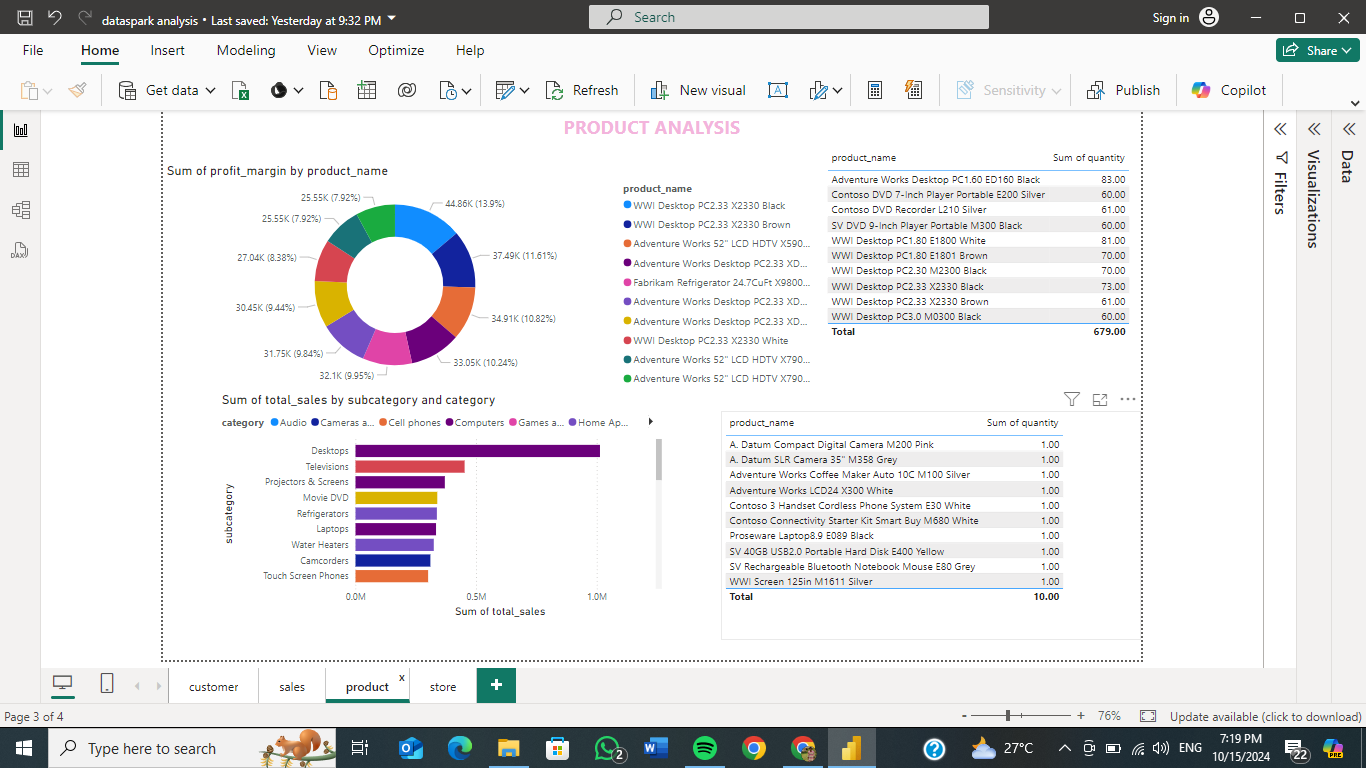

The dashboard page shown, as its layout file describes it:
{"tool":"powerbi","page":{"name":"product ","canvas":[1280,720],"ordinal":2},"visuals":[{"type":"textbox","box":[507.9,0,264.3,59.2],"z":0},{"type":"donutChart","fields":{"Category":["Query10.product_name"],"Y":["Query10.profit_margin"]},"box":[0,68.8,864.3,300],"z":1000},{"type":"barChart","fields":{"Y":["Query8.total_sales"],"Category":["Query8.subcategory"],"Series":["Query8.category"]},"box":[0,369.2,586.5,299.8],"z":2000},{"type":"tableEx","fields":{"Values":["Query9.product_name","Query9.quantity"]},"box":[589.1,379.6,549.8,299.8],"z":3000},{"type":"tableEx","fields":{"Values":["Query14.product_name","Query14.quantity"]},"box":[864.3,46.8,415.7,300],"z":4000}]}

Visuals, with their boxes on the page's 1280x720 design canvas (x1, y1, x2, y2). These are canvas units, not pixel positions in the 1366x768 screenshot, which may show the page scaled, cropped or inside an application window:
textbox: [x1=508, y1=0, x2=772, y2=59]
donutChart - Query10.product_name x Query10.profit_margin: [x1=0, y1=69, x2=864, y2=369]
barChart - Query8.total_sales x Query8.subcategory: [x1=0, y1=369, x2=586, y2=669]
tableEx - Query9.product_name x Query9.quantity: [x1=589, y1=380, x2=1139, y2=679]
tableEx - Query14.product_name x Query14.quantity: [x1=864, y1=47, x2=1280, y2=347]
